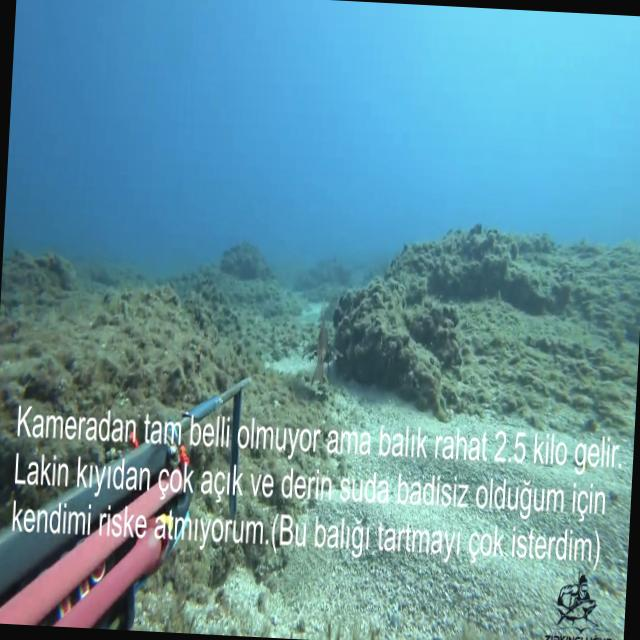Aslan Baligi: (300, 303, 344, 393)
